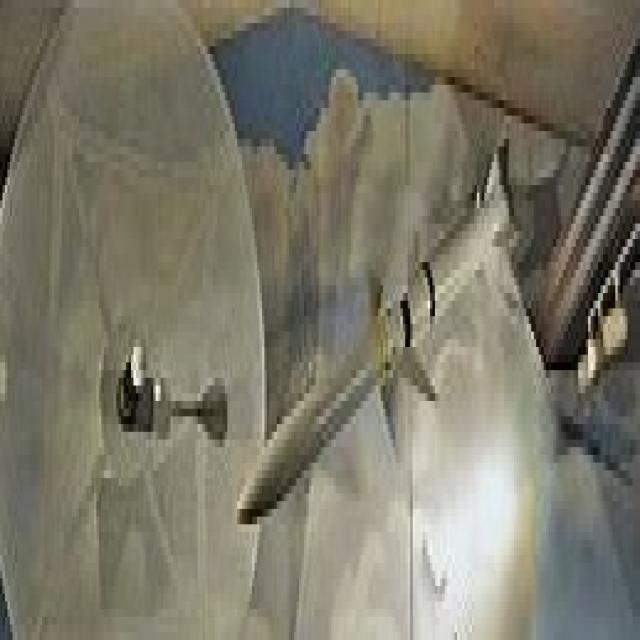missile: (237, 134, 512, 525)
